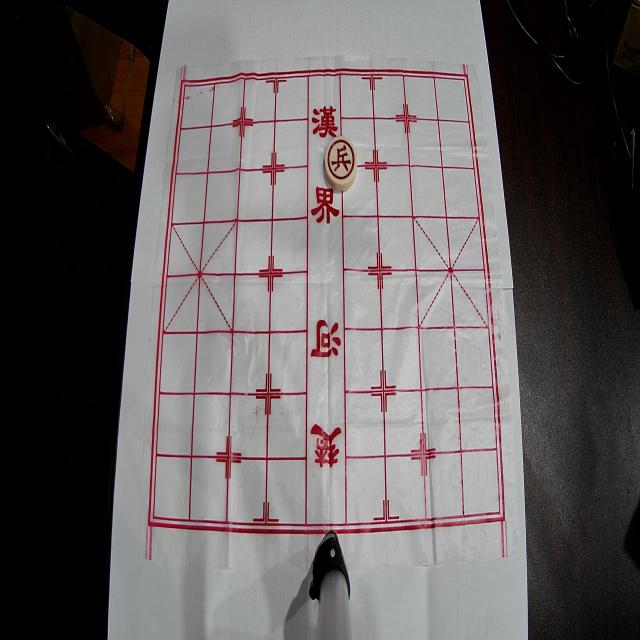red-soldier: (325, 136, 357, 190)
